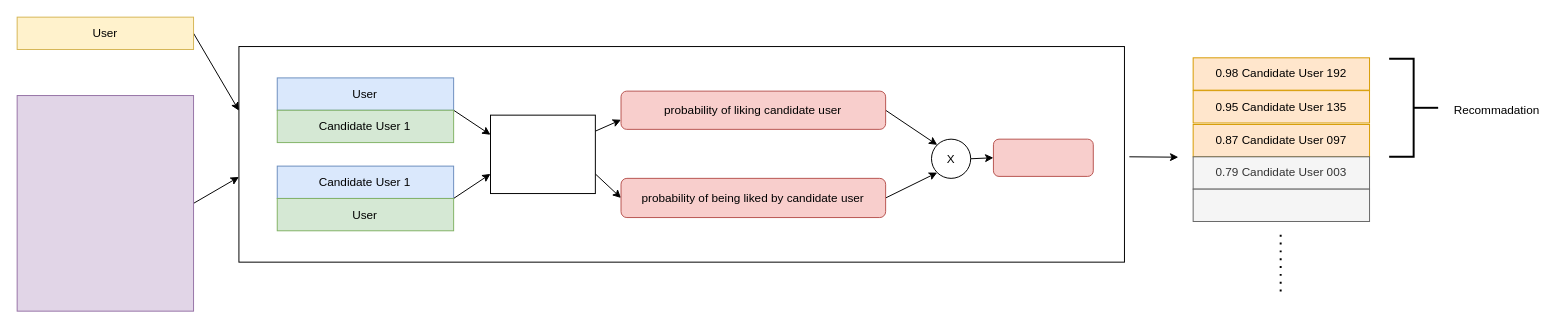
The diagram is 1556 pixels wide and 328 high, and some of its shapes have lost their labels. Each missing label, with the centre of its shape:
"0.69 Candidate User 513" goes at (1281,204).
"Candidate User Pool" goes at (105,203).
"match score" goes at (1042,157).
"Model" goes at (542,154).
